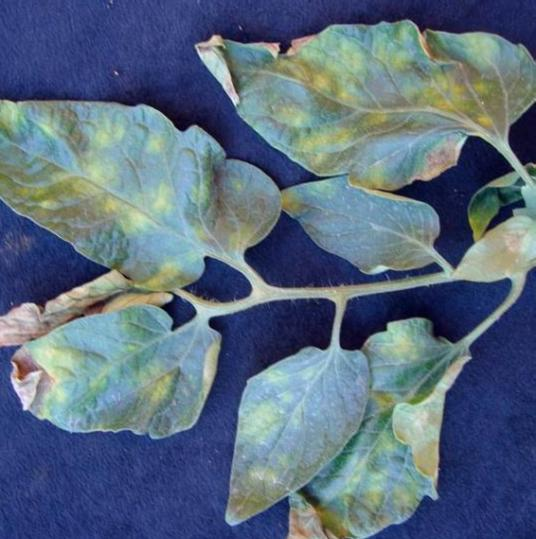Tomato mold leaf: (186, 10, 536, 194), (0, 88, 281, 287), (276, 319, 497, 539), (211, 340, 397, 531), (0, 305, 229, 449), (261, 174, 469, 272), (437, 208, 536, 292)
